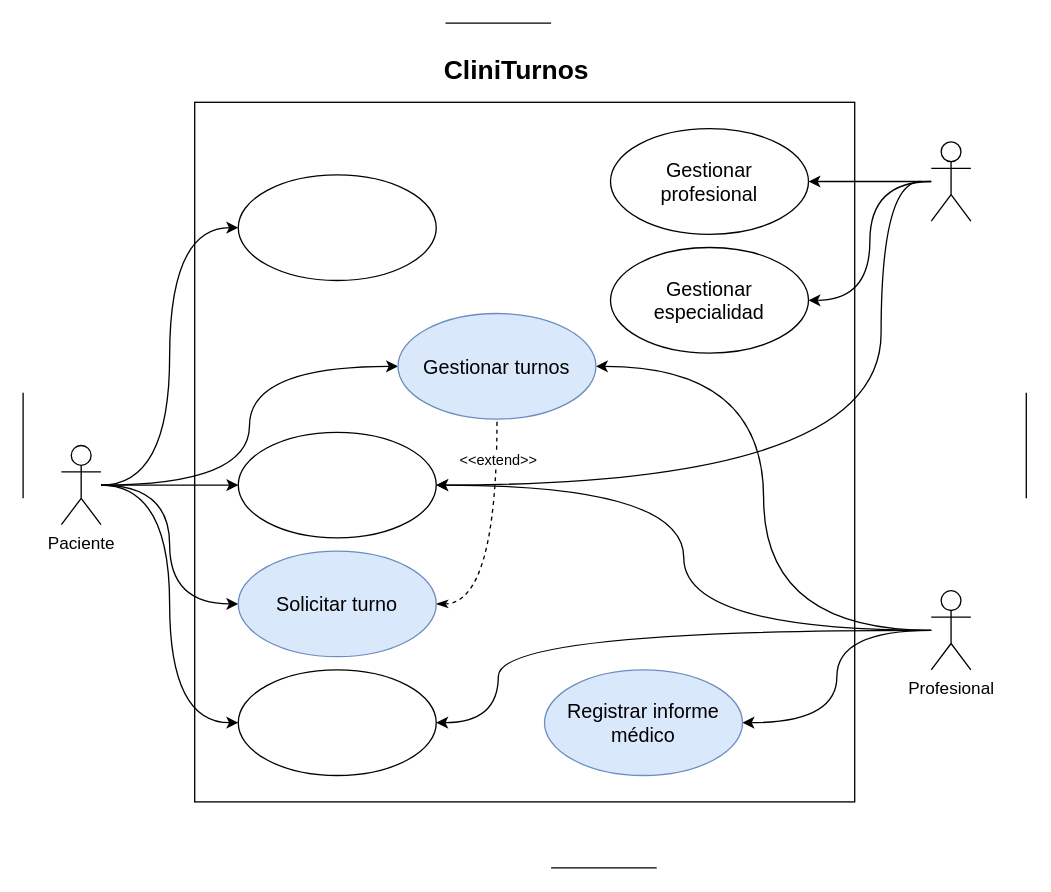
Image size: 1051x892. Some labels were removed from this diagram. Here are the shapes that lost their labels. From the top down, the centre of each, then its label:
At (950,181): "Administrador".
At (336,227): "Registrarse como paciente".
At (336,484): "Iniciar sesión".
At (336,722): "Gestionar perfil".
